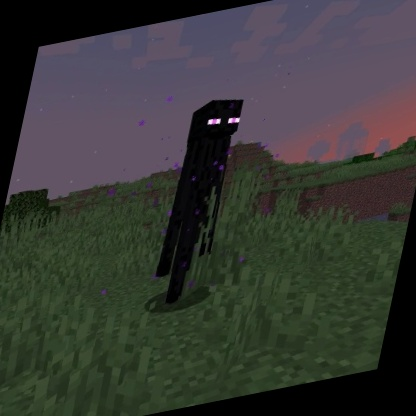enderman: (144, 90, 249, 311)
